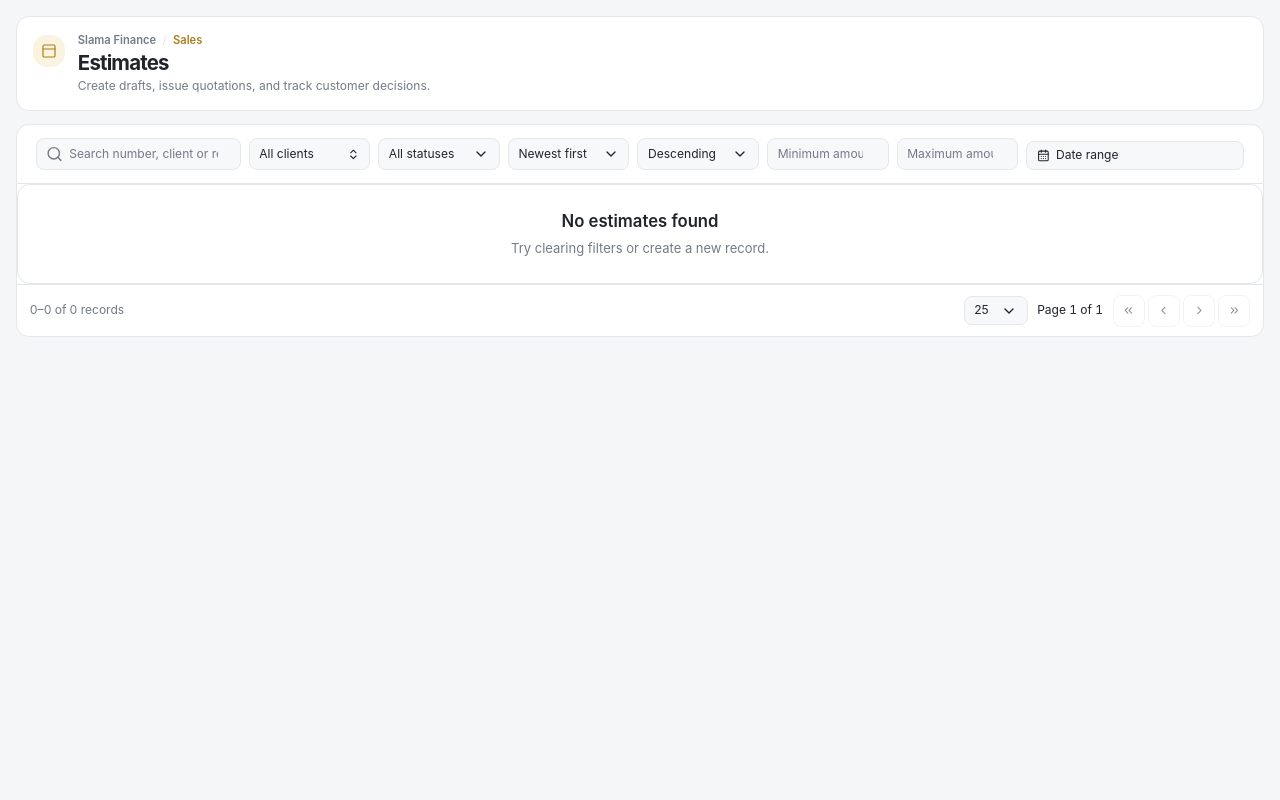
it: sales payment screens › searches clients inside the document filter and preserves the selected name
Click the dropdown labelled "client" at x=310, y=154, box [249, 138, 370, 170]
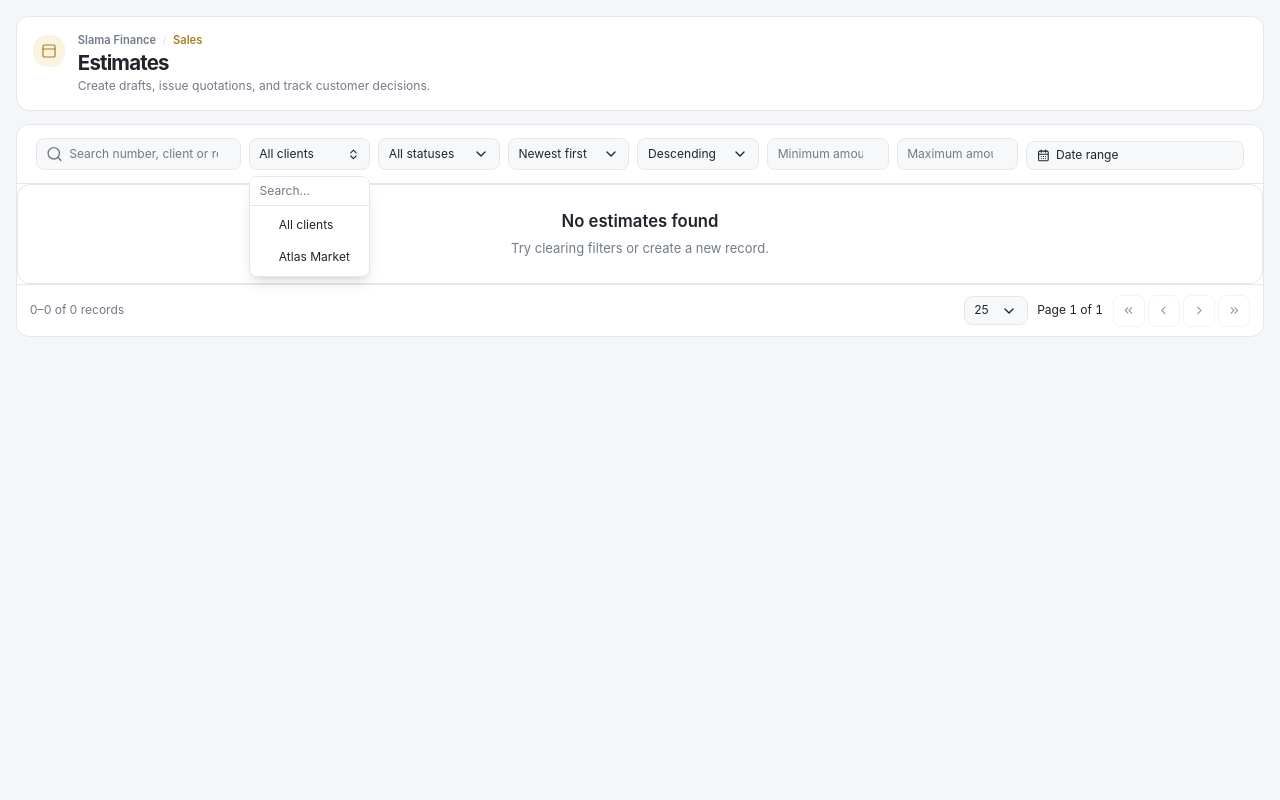
Type "Atlas" into the dropdown named "Search options" at x=310, y=191, box [250, 177, 369, 206]
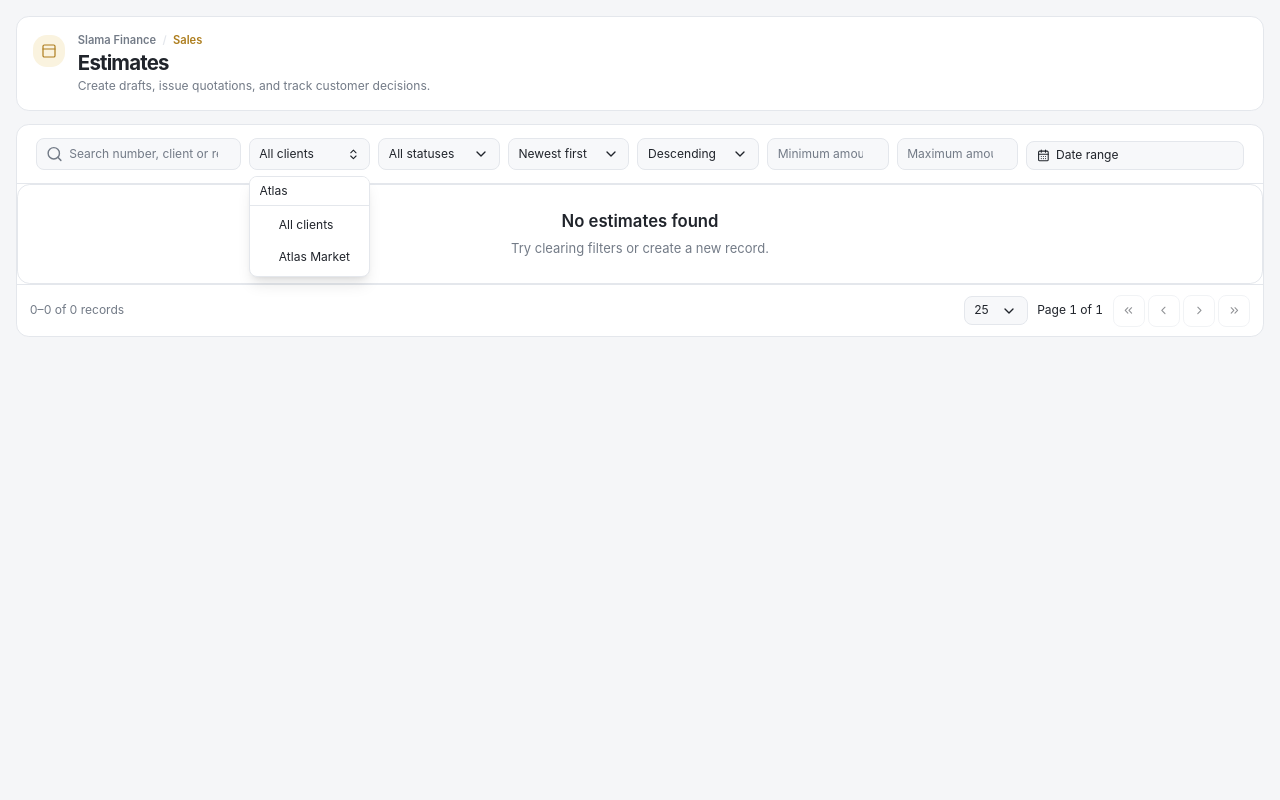
Click the option "Atlas Market" at x=314, y=256, box [279, 249, 350, 264]
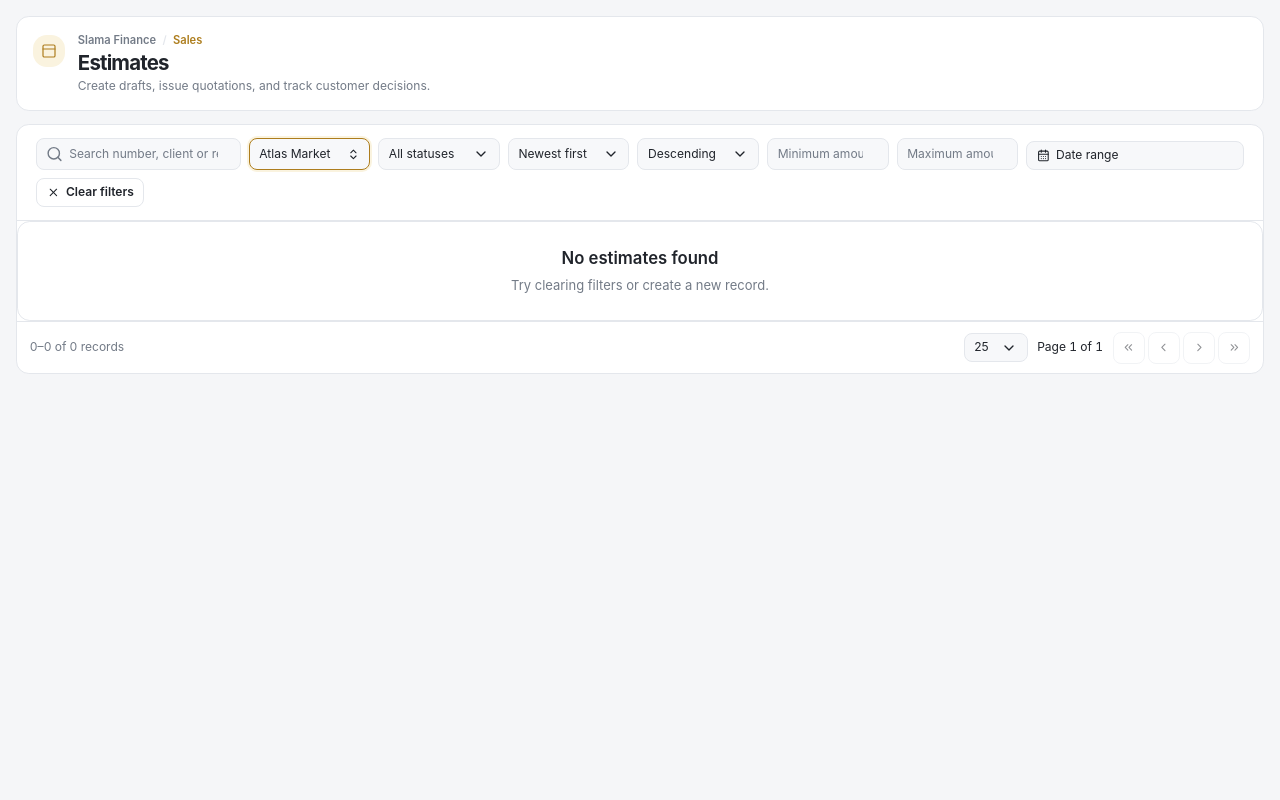
Check: the dropdown named "Client" reads "Atlas Market", box [249, 138, 370, 170]
